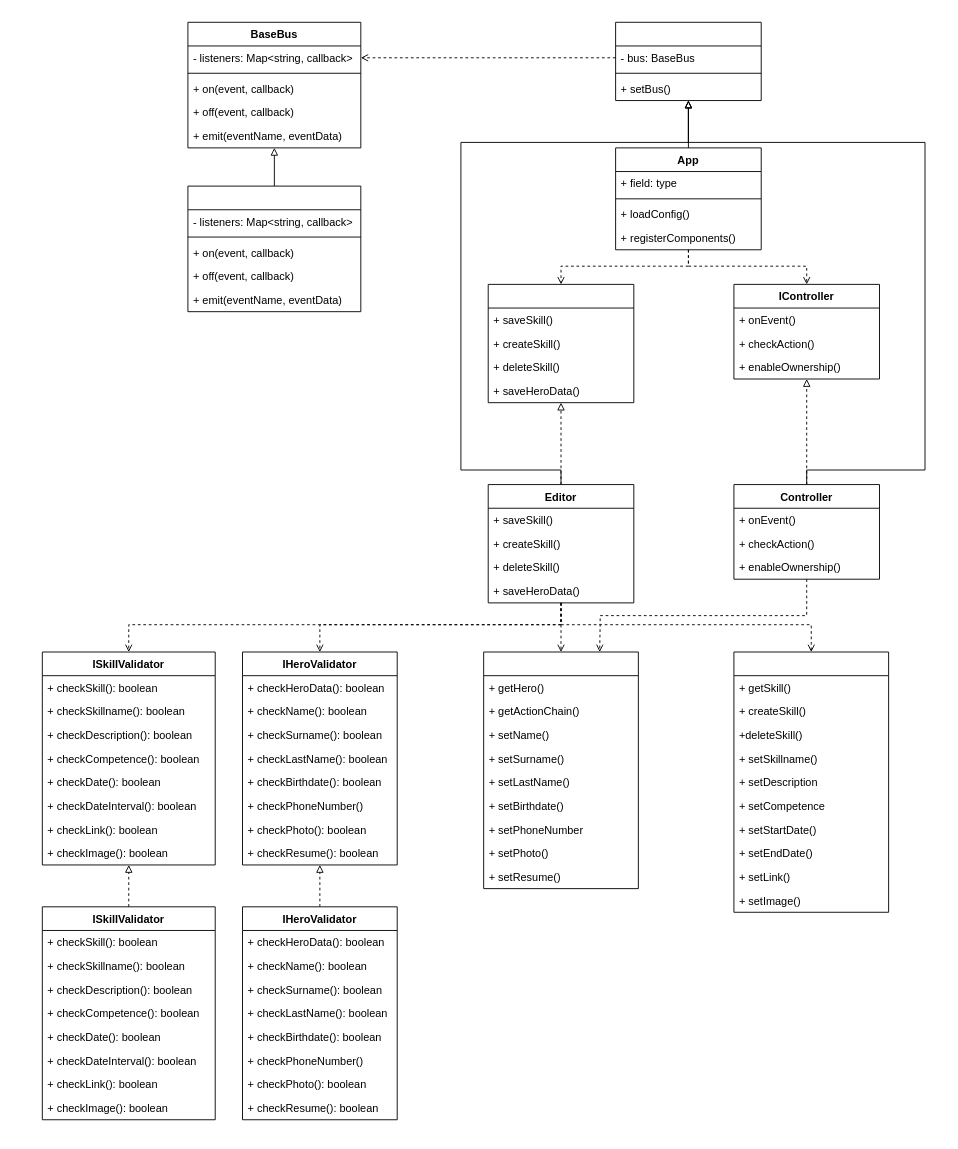
The diagram is 958 pixels wide and 1149 high, and some of its shapes have lost their labels. The box of each missing label's shape, as (x1, y1, x2, y2) in pixels:
BaseComponent: (615, 21, 761, 101)
EventBus: (187, 185, 361, 312)
HeroDelivery: (483, 651, 638, 889)
IEditor: (487, 283, 634, 403)
SkillDelivery: (733, 651, 889, 912)
